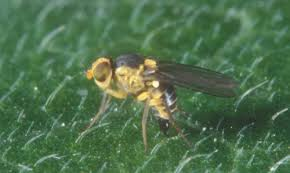Trifoli: (71, 46, 237, 150)
